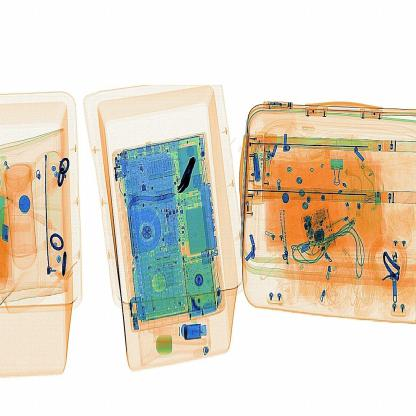knife: (177, 150, 202, 207)
